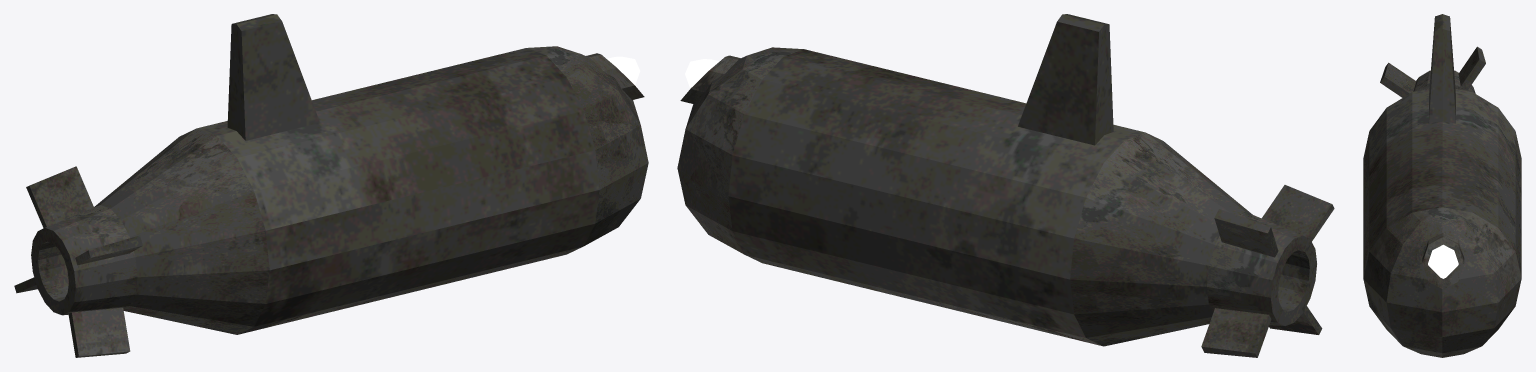
The model's file is SubExported.glb.
3 views of the same model, side by side, from view 1: azimuth 30°, elevation 25°; view 2: azimuth 150°, elevation 25°; view 3: azimuth 270°, elevation 25° (orthographic). The views are drawn at different scales.
Visible parts, largest first — view 1: Sphere; view 2: Sphere; view 3: Sphere.
Boxes of the visible parts, x1,y1,x2,y2 form: Sphere: (14, 14, 648, 357); Sphere: (677, 14, 1334, 357); Sphere: (1363, 14, 1521, 357).
Bounding box in the file's own units: 15.86 × 7.68 × 4.93.
Materials: 2 (1 with a texture image).
